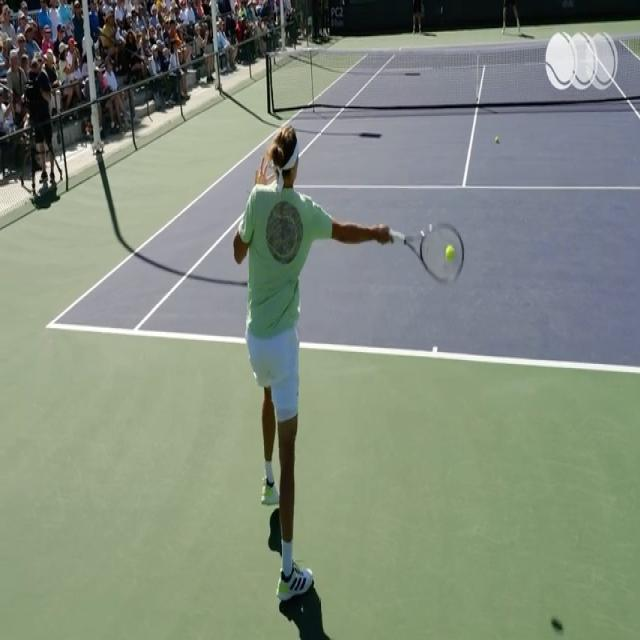forehand-stroke: (229, 131, 464, 612)
